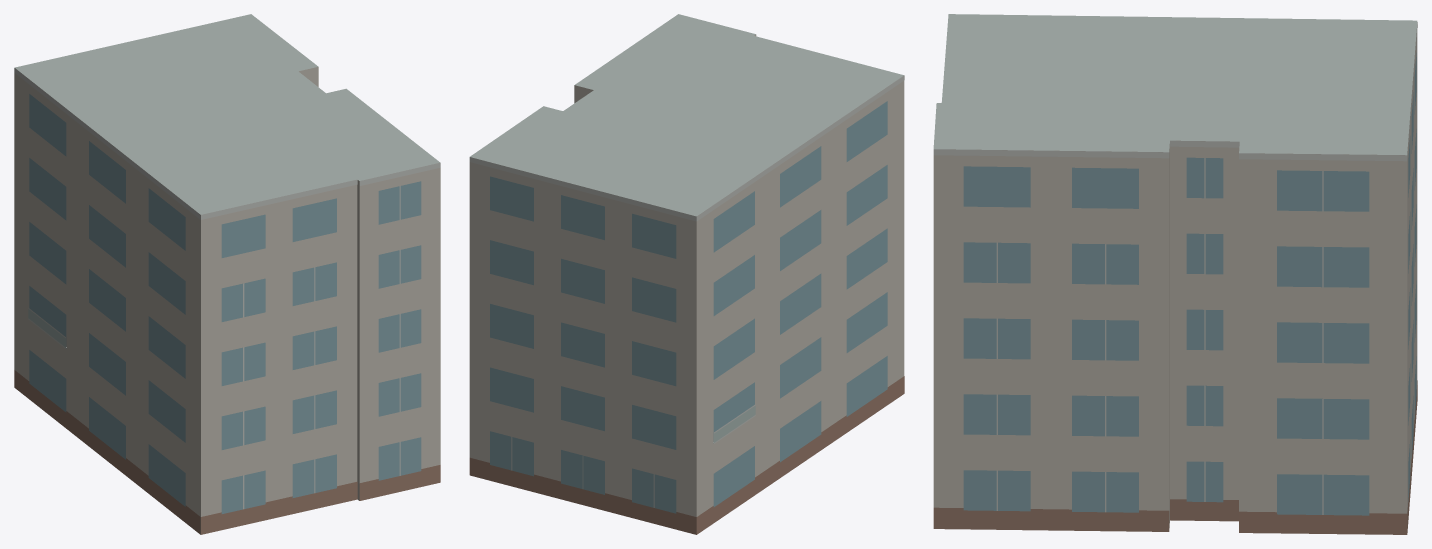
File: survey-upis-32638059.glb
3 views of the same model, side by side, from view 1: azimuth 30°, elevation 25°; view 2: azimuth 150°, elevation 25°; view 3: azimuth 270°, elevation 25° (orthographic). The views are drawn at different scales.
Parts seen in each view (by area): view 1: survey-upis-32638059.tmp; view 2: survey-upis-32638059.tmp; view 3: survey-upis-32638059.tmp.
Part boxes in pixels (<box>): survey-upis-32638059.tmp: <box>14,14,440,534</box>; survey-upis-32638059.tmp: <box>469,14,904,534</box>; survey-upis-32638059.tmp: <box>933,14,1417,534</box>.
Bounding box in the file's own units: 12.21 × 15.3 × 17.68.
